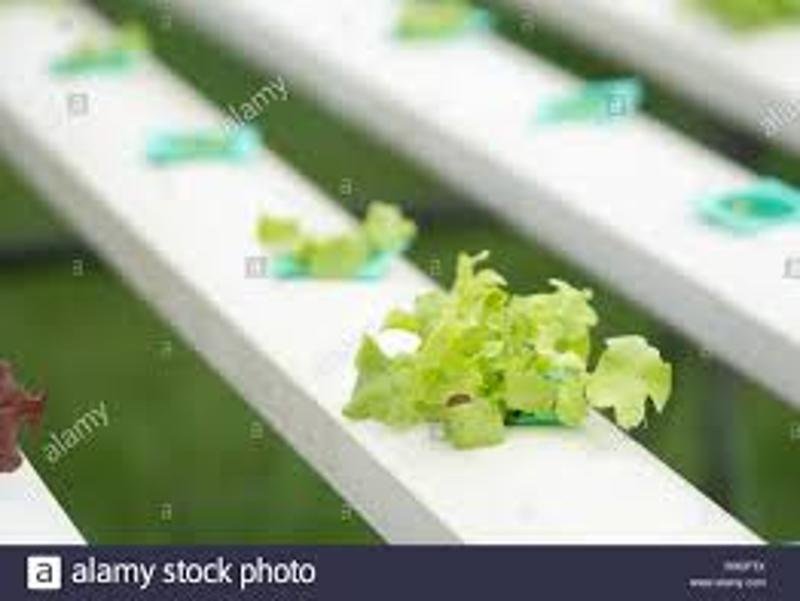green lettuce: (348, 257, 677, 443)
